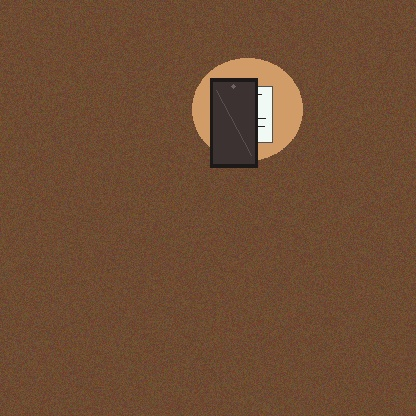cell_phone: (210, 78, 257, 167)
exam_chit: (217, 86, 272, 142)
